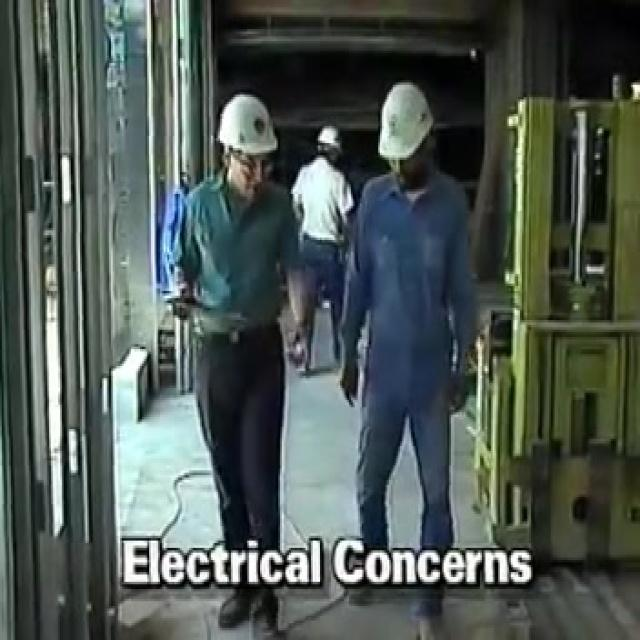helmet: (373, 104, 433, 211), (216, 116, 280, 209), (315, 158, 346, 206)
